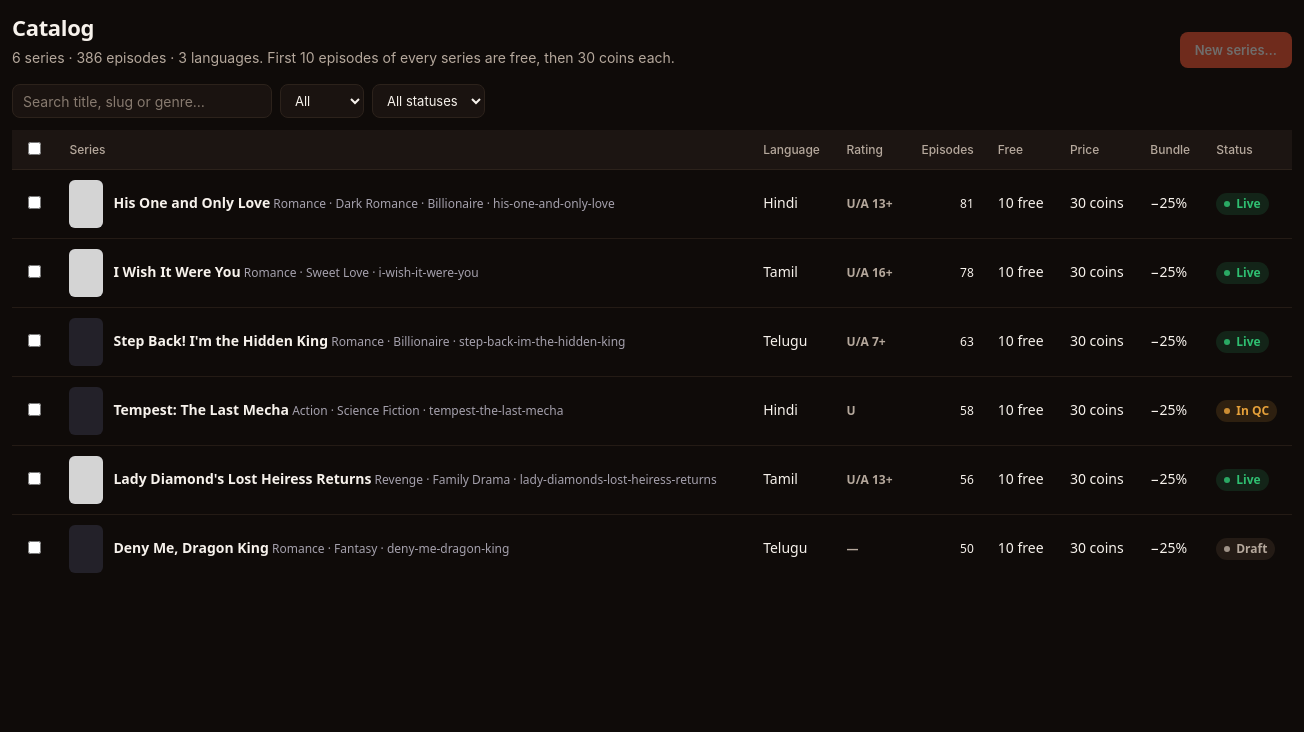
Scenario: Catalog view › filters by language
Expected: the text "His One and Only Love" is shown, x1=114 y1=193 x2=270 y2=212
Select "Tamil" in the dropdown named "Language" at (322, 101), box x1=280 y1=84 x2=364 y2=118
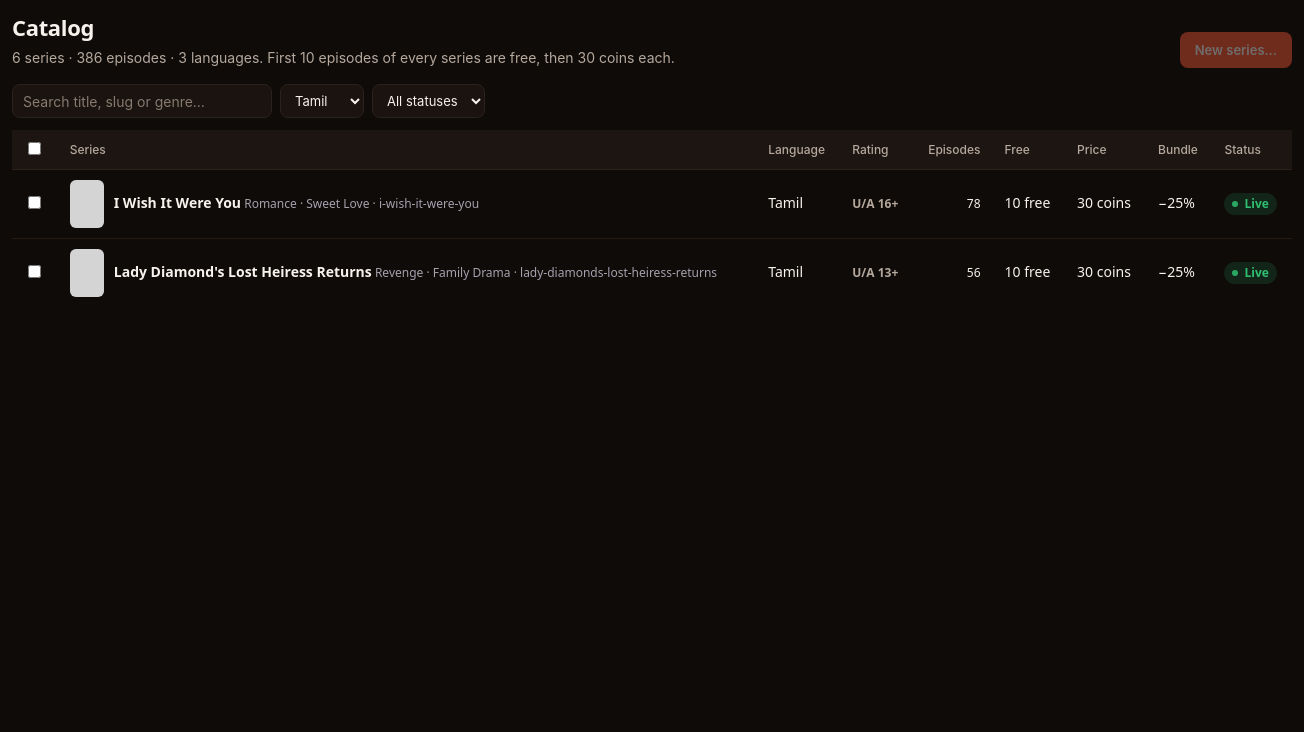
Now the link "His One and Only Love" is gone
